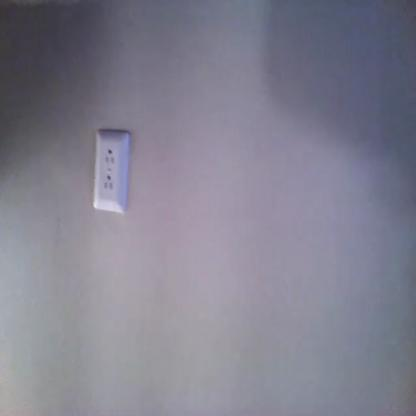OUTLET: (92, 130, 130, 213)
